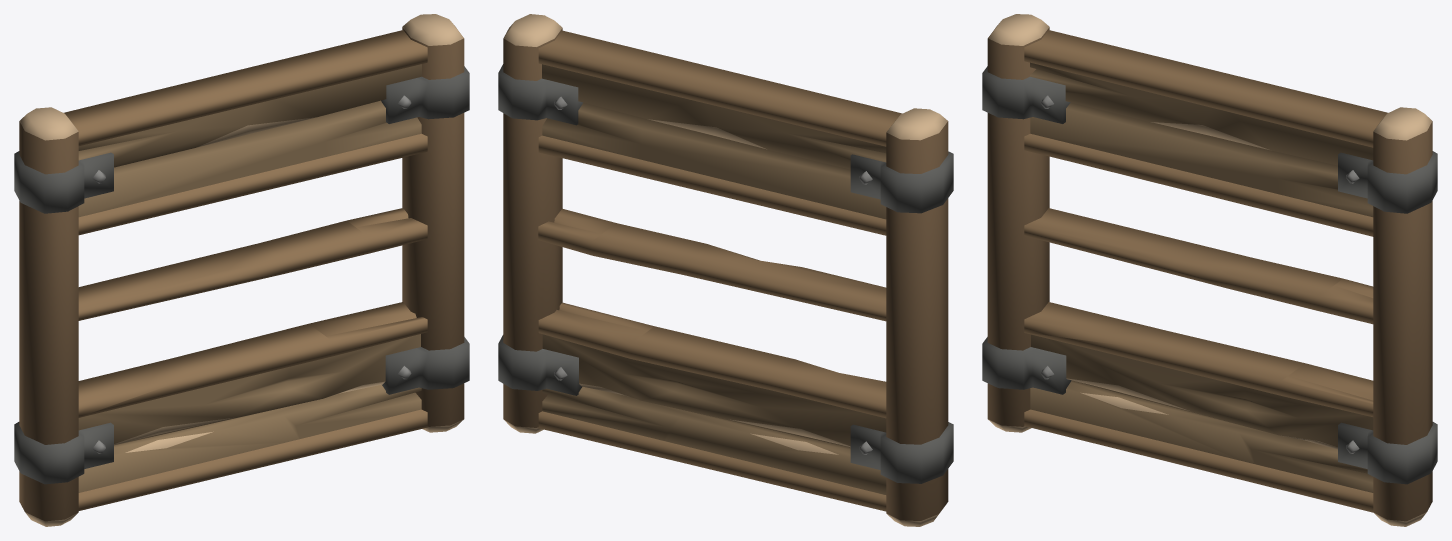
The model's file is rpgpp_ag_shelf_wood_03b.fbx.
The picture shows the model from 3 angles, left to right: view 1: azimuth 30°, elevation 25°; view 2: azimuth 150°, elevation 25°; view 3: azimuth 330°, elevation 25°; orthographic projection.
Visible parts, largest first — view 1: rpgpp_ag_shelf_wood_03b; view 2: rpgpp_ag_shelf_wood_03b; view 3: rpgpp_ag_shelf_wood_03b.
Part boxes in pixels (x1,y1,x2,y2): rpgpp_ag_shelf_wood_03b: [14, 14, 469, 526]; rpgpp_ag_shelf_wood_03b: [498, 14, 953, 526]; rpgpp_ag_shelf_wood_03b: [982, 14, 1437, 526].
Size of the model in its own units: 2.24 by 1.94 by 0.3535.
